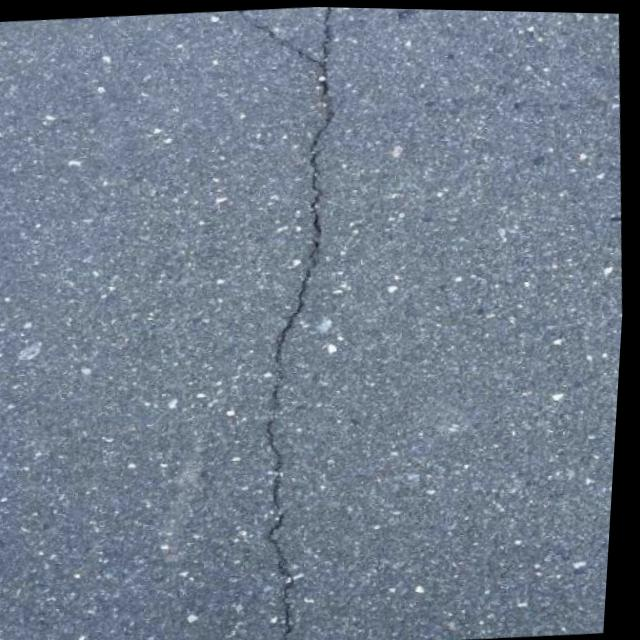Crack: (194, 4, 404, 640)
